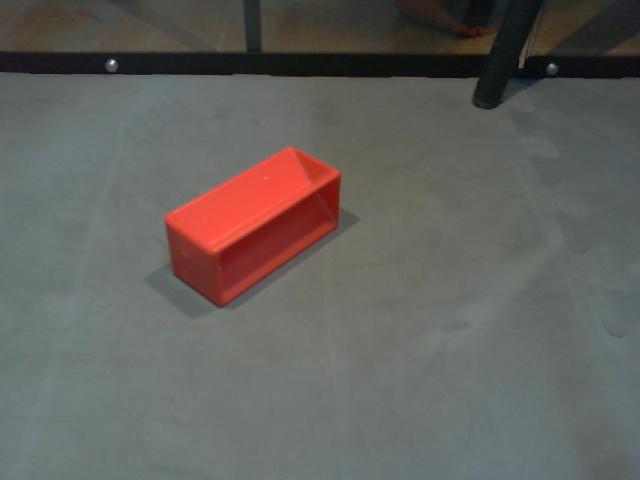RedSample: (161, 144, 344, 311)
